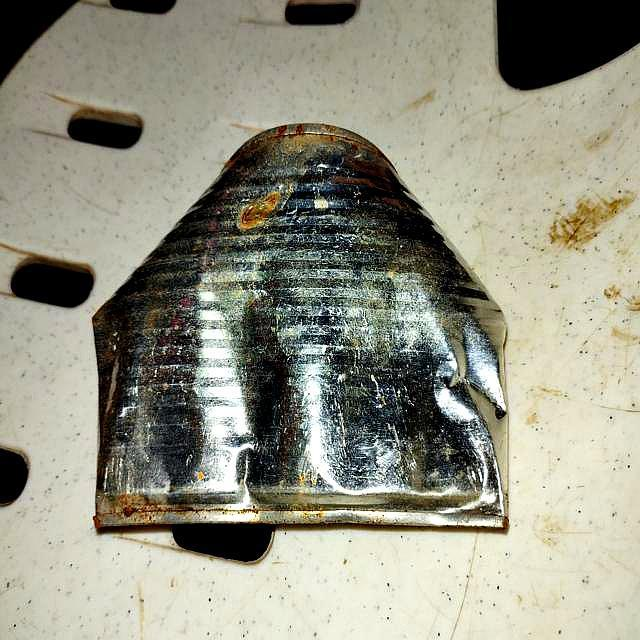Non-biodegradable: (90, 121, 513, 544)
